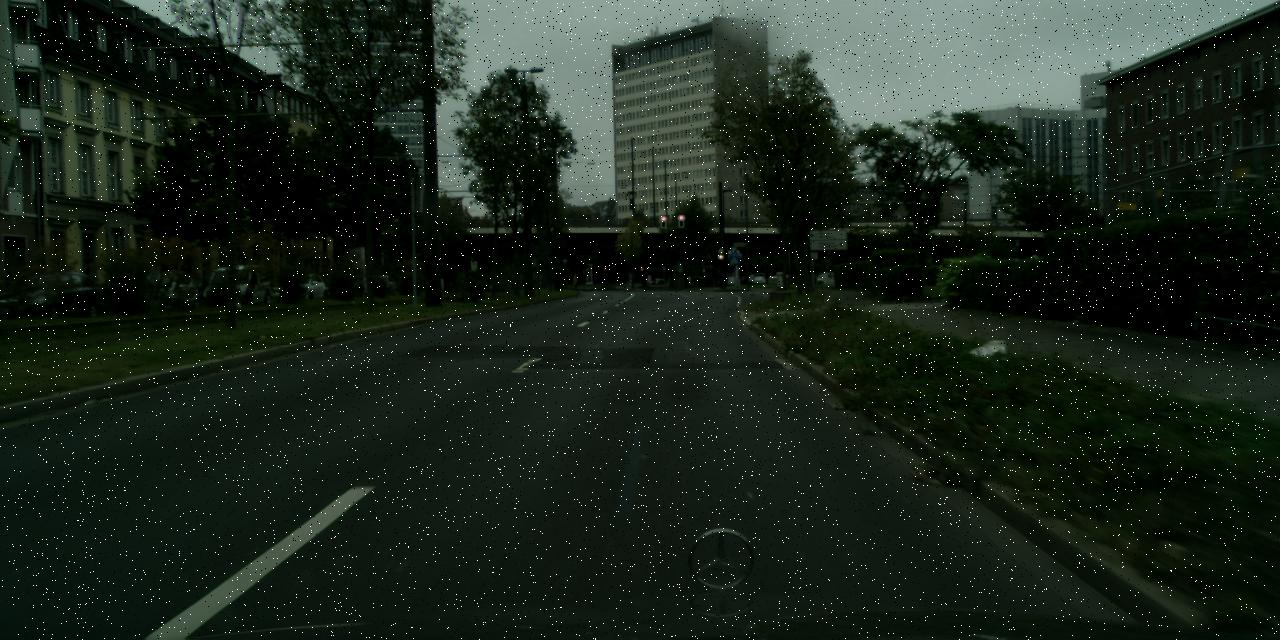ped: (571, 272, 578, 290)
